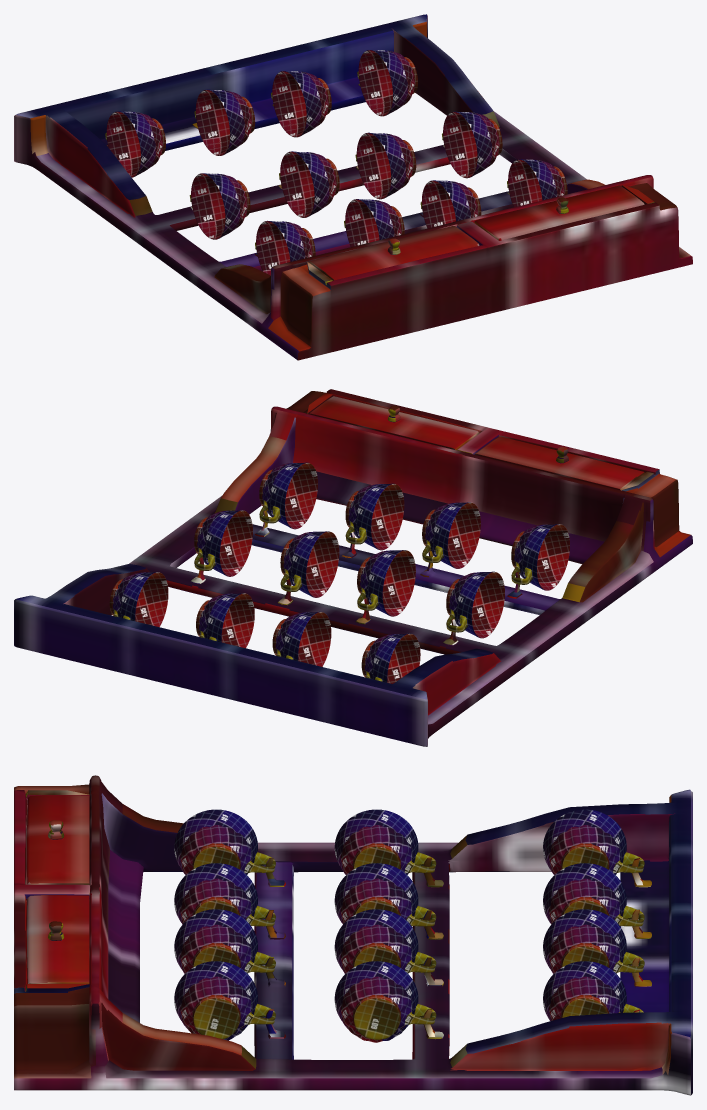
The model's file is RACK_OF_TEACUPS_UNWRAPPED.fbx.
3 renders of one model, top to bottom at view 1: azimuth 30°, elevation 25°; view 2: azimuth 150°, elevation 25°; view 3: azimuth 270°, elevation 25°, orthographic. The views are drawn at different scales.
Parts seen in each view (by area): view 1: cup.012, cup.016, cup.017, cup.019, cup.014, cup.013, cup.018, cup.008, cup.015, cup.023, cup.020, cup.021 (+1 smaller); view 2: cup.012, cup.017, cup.023, cup.021, cup.016, cup.022, cup.019, cup.018, cup.020, cup.013, cup.014, cup.008 (+1 smaller); view 3: cup.012, cup.016, cup.020, cup.019, cup.015, cup.023, cup.021, cup.013, cup.017, cup.022, cup.018, cup.014 (+1 smaller).
Boxes of the visible parts, x1,y1,x2,y2 form: cup.012: (14, 14, 692, 360); cup.016: (442, 111, 502, 178); cup.017: (355, 132, 416, 199); cup.019: (189, 173, 250, 239); cup.014: (194, 89, 255, 155); cup.013: (271, 71, 331, 137); cup.018: (279, 151, 339, 217); cup.008: (357, 50, 417, 116); cup.015: (105, 111, 165, 177); cup.023: (255, 220, 315, 275); cup.020: (507, 159, 567, 207); cup.021: (420, 180, 481, 228); cup.012: (14, 389, 692, 746); cup.017: (280, 531, 339, 597); cup.023: (511, 524, 569, 590); cup.021: (345, 483, 404, 550); cup.016: (194, 510, 252, 576); cup.022: (422, 502, 480, 568); cup.019: (446, 571, 504, 638); cup.018: (357, 550, 415, 616); cup.020: (259, 462, 317, 529); cup.013: (196, 593, 254, 648); cup.014: (272, 611, 331, 666); cup.008: (109, 572, 168, 627); cup.012: (14, 775, 692, 1095); cup.016: (334, 961, 436, 1042); cup.020: (174, 961, 275, 1040); cup.019: (334, 809, 436, 874); cup.015: (543, 809, 644, 874); cup.023: (174, 809, 275, 874); cup.021: (174, 909, 275, 973); cup.013: (543, 909, 644, 973); cup.017: (334, 909, 436, 973); cup.022: (174, 863, 275, 926); cup.018: (334, 863, 436, 926); cup.014: (543, 863, 644, 926).
Size of the model in its own units: 328 by 61.12 by 378.
